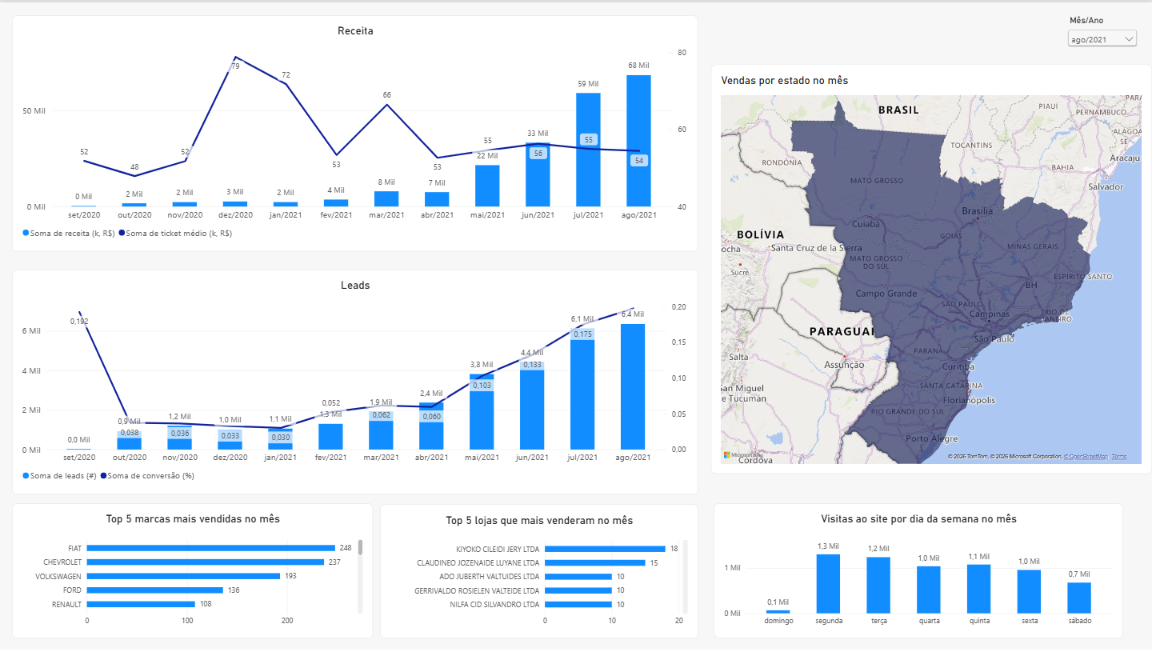

This screenshot's page, from the dashboard's own definition file:
{"tool":"powerbi","page":{"name":"Página 1","canvas":[1920,1080],"ordinal":0},"visuals":[{"type":"barChart","title":"Top 5 marcas mais vendidas no mês","fields":{"Category":["marcas_vendas.marca"],"Y":["Sum(marcas_vendas.vendas (#))"]},"box":[20,835,601.7,225],"z":0},{"type":"barChart","title":"Top 5 lojas que mais venderam no mês","fields":{"Category":["lojas_vendas.loja"],"Y":["Sum(lojas_vendas.vendas (#))"]},"box":[633.3,836.7,530,223.3],"z":1000},{"type":"columnChart","title":"Visitas ao site por dia da semana no mês","fields":{"Category":["visitas_dia_semana.dia da semana"],"Y":["Sum(visitas_dia_semana.visitas (#))"]},"box":[1190,835,681.7,225],"z":2000},{"type":"slicer","fields":{"Values":["receita_leads_mensal.Mês/Ano"]},"box":[1775,21.2,125,66.7],"z":3000},{"type":"lineStackedColumnComboChart","title":"Receita","fields":{"Category":["receita_leads_mensal.Mês/Ano"],"Y":["Sum(receita_leads_mensal.receita (k, R$))"],"Y2":["Sum(receita_leads_mensal.ticket médio (k, R$))"]},"box":[20,21.7,1143.3,393.3],"z":4000},{"type":"lineStackedColumnComboChart","title":"Leads","fields":{"Category":["receita_leads_mensal.Mês/Ano"],"Y":["Sum(receita_leads_mensal.leads (#))"],"Y2":["Sum(receita_leads_mensal.conversão (%))"]},"box":[20,445,1143.3,375],"z":5000},{"type":"filledMap","title":"Vendas por estado","fields":{"Category":["estados_vendas.estado","estados_vendas.país"]},"box":[1185,103.8,735,682.5],"z":6000}]}

Visuals, with their boxes in screenshot pixels (x1, y1, x2, y2), scaled from the page's 1920x1080 canvas onto the 1152x650 screenshot:
"Top 5 marcas mais vendidas no mês" barChart: {"left": 12, "top": 503, "right": 373, "bottom": 638}
"Top 5 lojas que mais venderam no mês" barChart: {"left": 380, "top": 504, "right": 698, "bottom": 638}
"Visitas ao site por dia da semana no mês" columnChart: {"left": 714, "top": 503, "right": 1123, "bottom": 638}
slicer - receita_leads_mensal.Mês/Ano: {"left": 1065, "top": 13, "right": 1140, "bottom": 53}
"Receita" lineStackedColumnComboChart: {"left": 12, "top": 13, "right": 698, "bottom": 250}
"Leads" lineStackedColumnComboChart: {"left": 12, "top": 268, "right": 698, "bottom": 494}
"Vendas por estado" filledMap: {"left": 711, "top": 62, "right": 1151, "bottom": 473}
